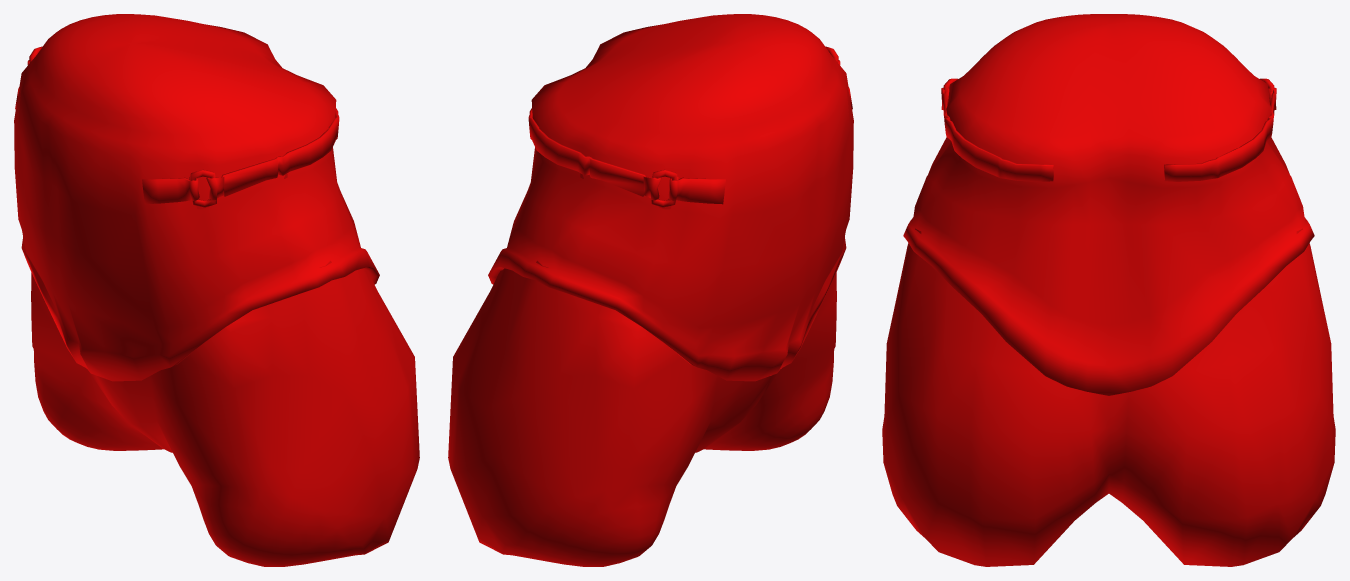
Rendered from TorsoLower.dae.
The picture shows the model from 3 angles, left to right: view 1: azimuth 30°, elevation 25°; view 2: azimuth 150°, elevation 25°; view 3: azimuth 270°, elevation 25°; orthographic projection. The views are drawn at different scales.
Parts seen in each view (by area): view 1: TorsoLower_001; view 2: TorsoLower_001; view 3: TorsoLower_001.
Part boxes in pixels (left/top/right/bottom): TorsoLower_001: left=14, top=14, right=419, bottom=566; TorsoLower_001: left=448, top=14, right=853, bottom=566; TorsoLower_001: left=882, top=14, right=1335, bottom=566.
Size of the model in its own units: 0.2582 by 0.3381 by 0.3776.
